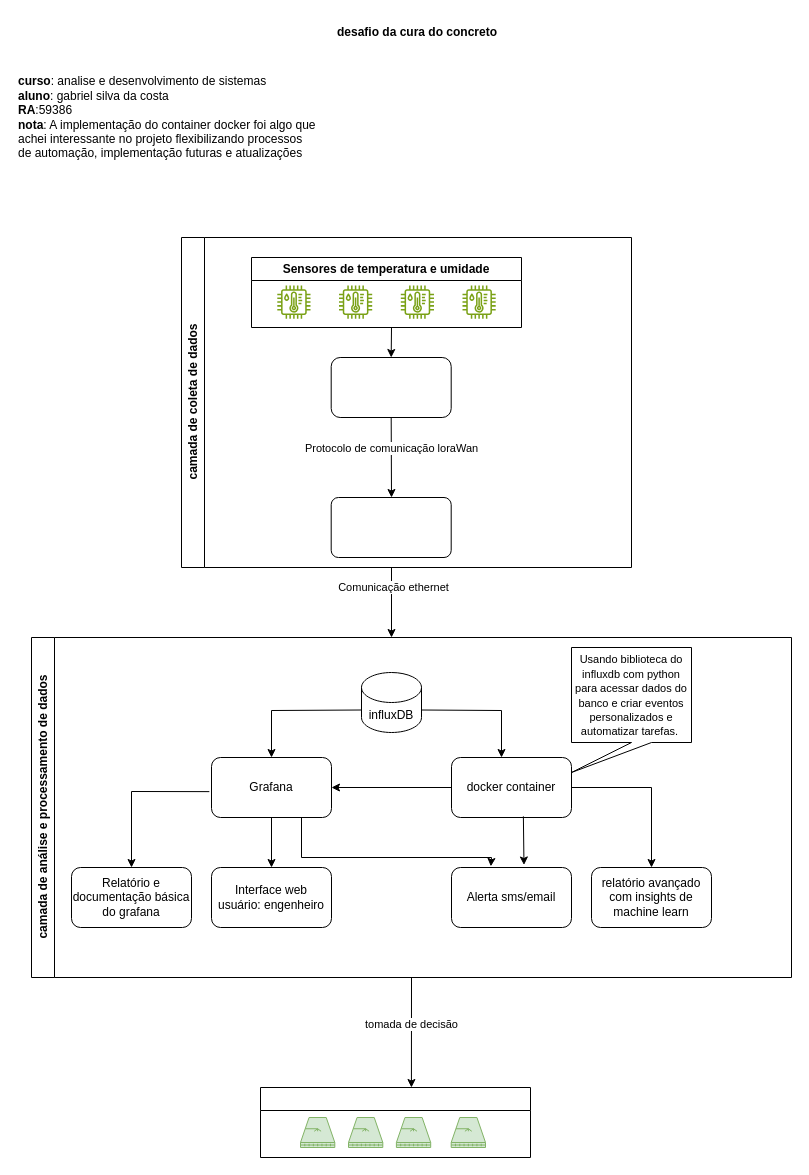
This 809x1175 diagram has some shape labels left out. Here are the shapes that lost their labels. From the top down, the box of each, then its label:
(330, 356, 451, 418): Arduino
(330, 496, 451, 558): Gateway
(260, 1086, 530, 1158): Sistema de irrigação
